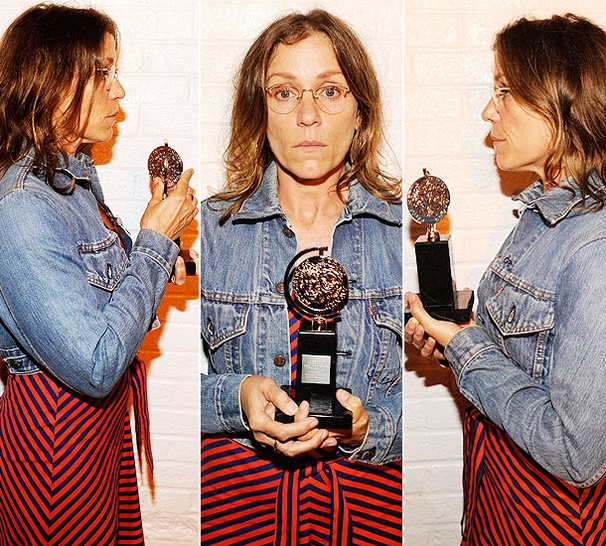bad: (259, 68, 366, 175)
